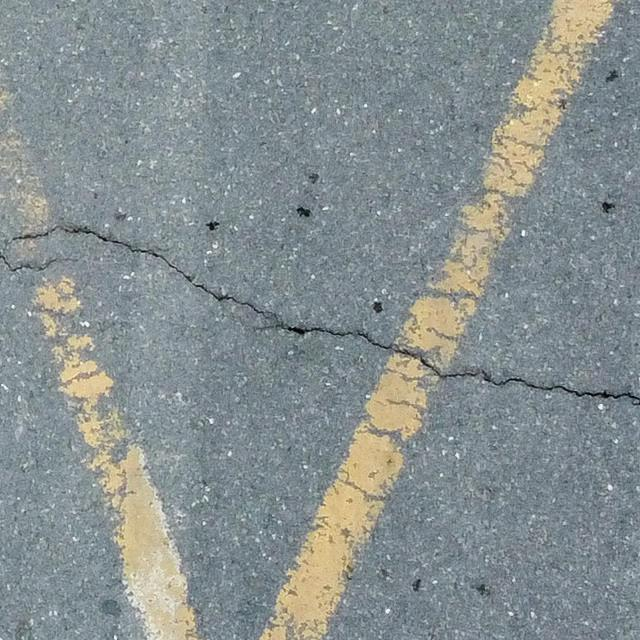TransverseCrack: (1, 226, 640, 403)
